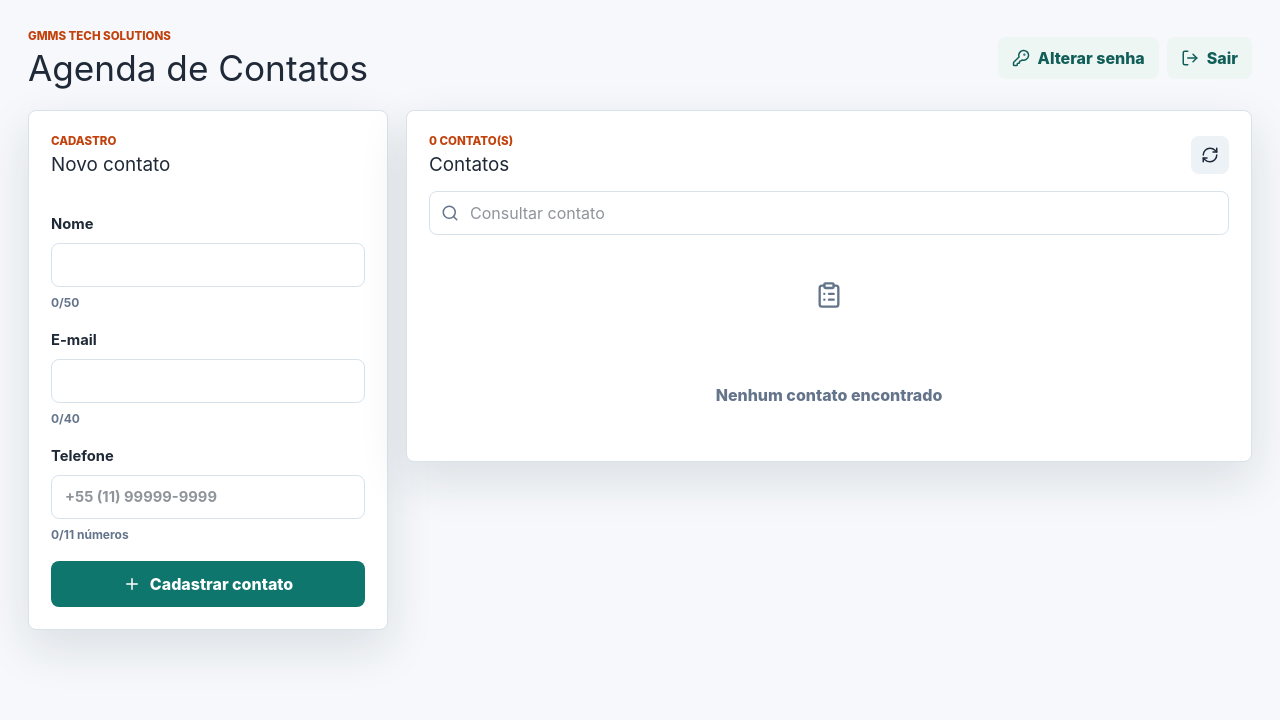
Test case: ContactsView › valida formato de e-mail e telefone incompleto
The width and height of the screenshot is (1280, 720).
Type "Ana Silva" into the field labelled "Nome 0/50" at {"x": 208, "y": 265}, box [51,243,365,287]
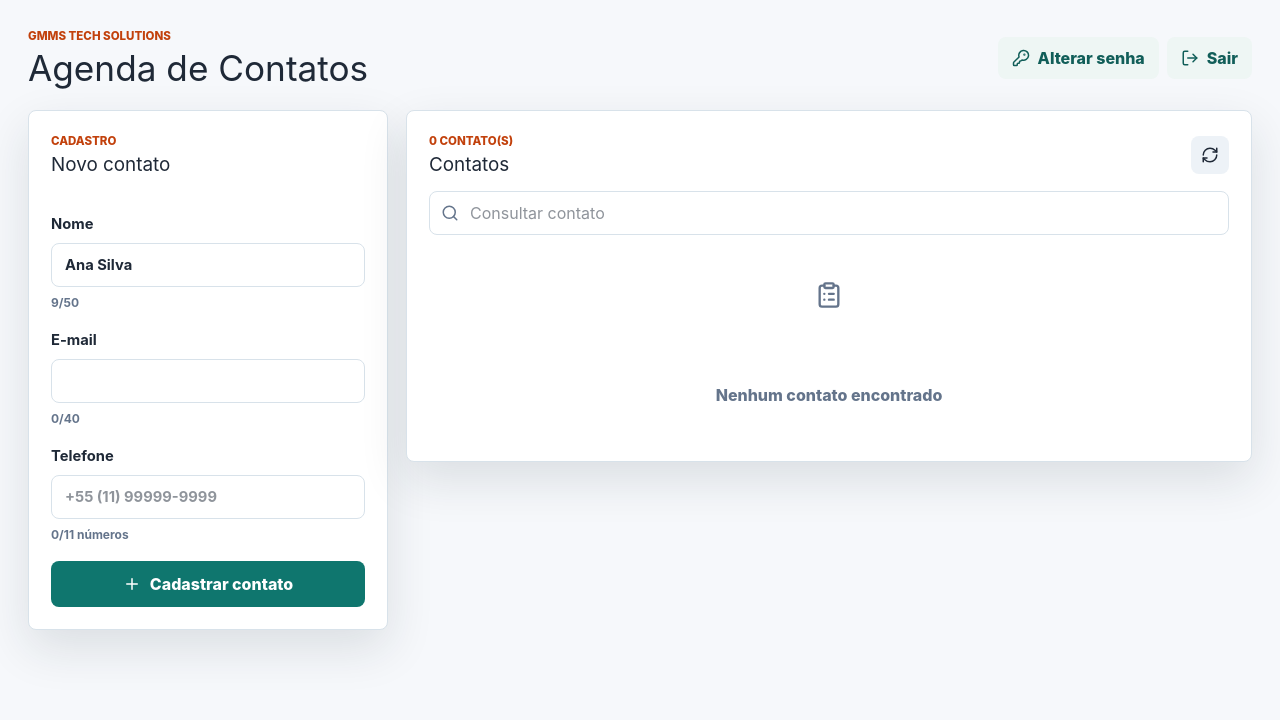
Type "email-invalido" into the field labelled "E-mail 0/40" at {"x": 208, "y": 381}, box [51,359,365,403]
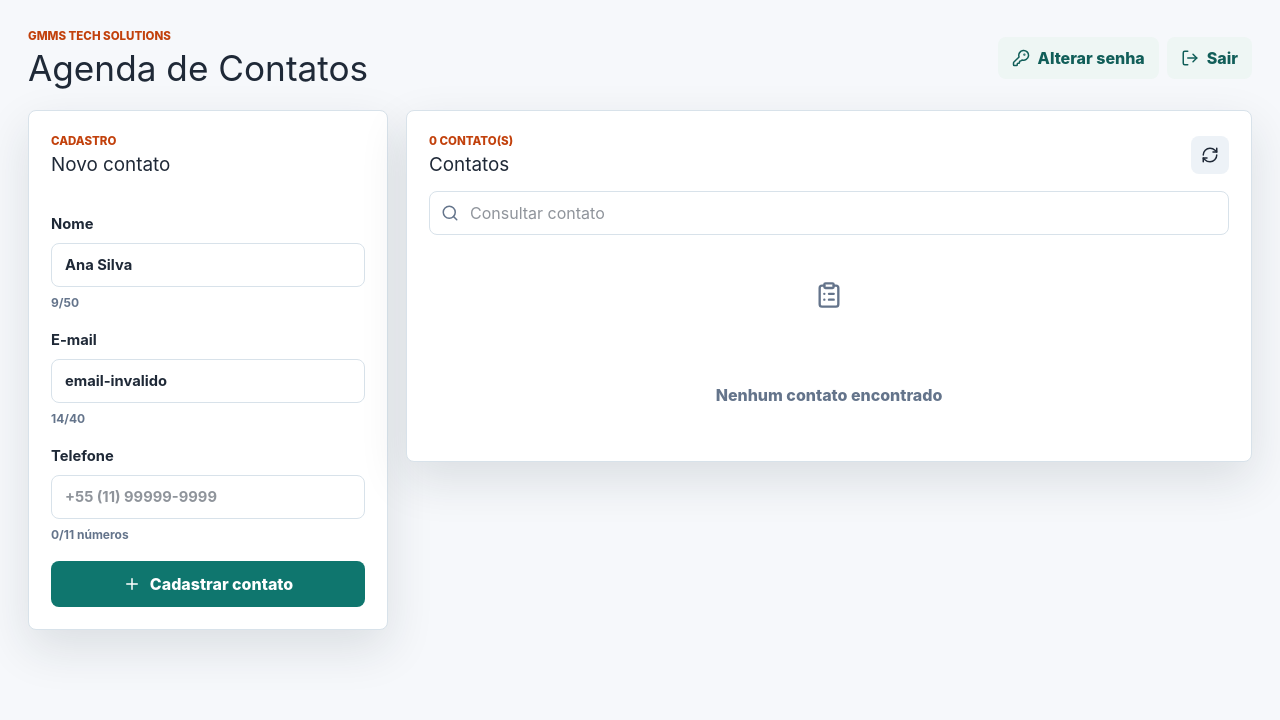
Type "119999" into the field labelled "Telefone 0/11 números" at {"x": 208, "y": 497}, box [51,475,365,519]
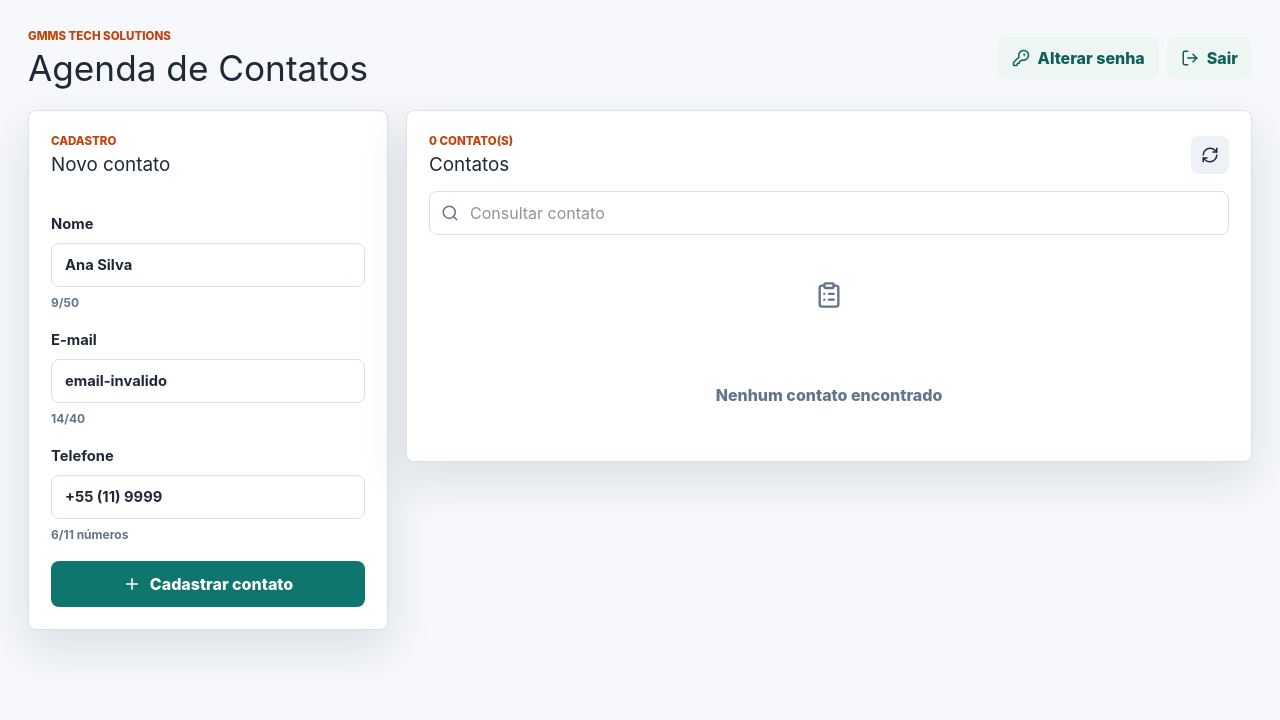
Submit the form with class "contact-form", box [28,110,388,630]
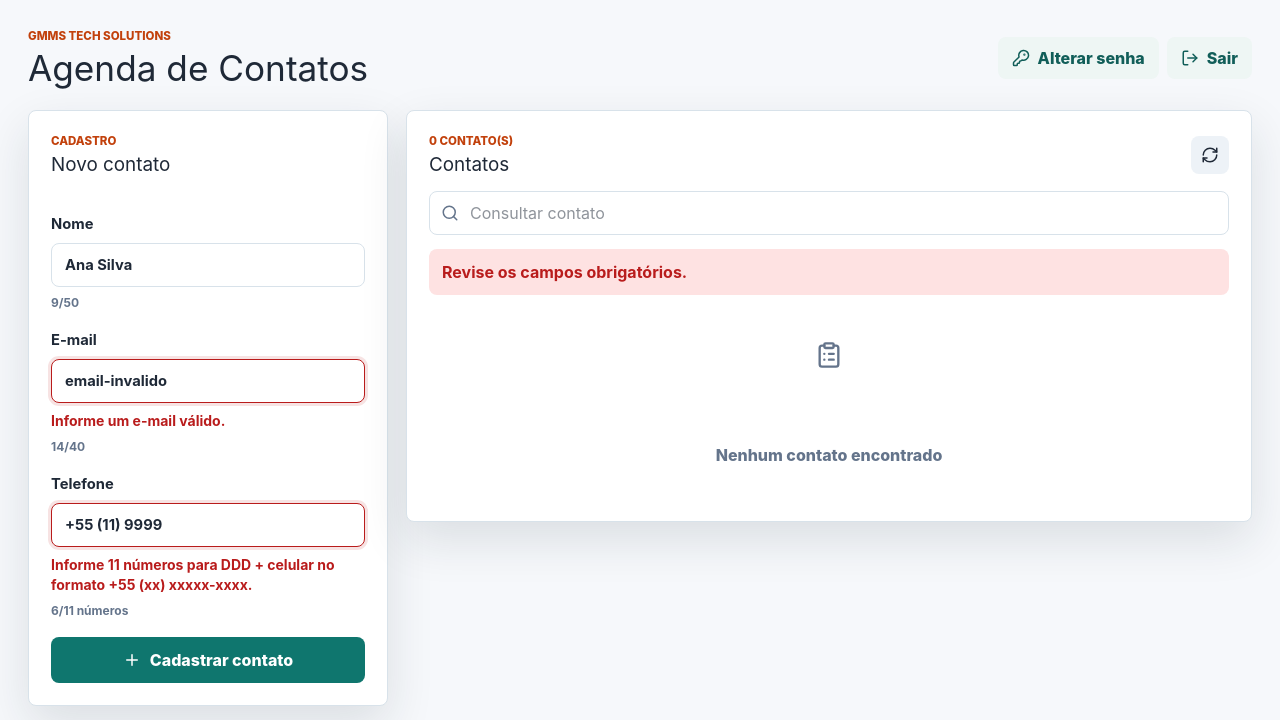
Now the text "Informe um e-mail válido." is shown, box [51,412,225,429]
Now the text "Informe 11 números para DDD + celular no formato +55 (xx) xxxxx-xxxx." is shown, box [51,555,365,595]
